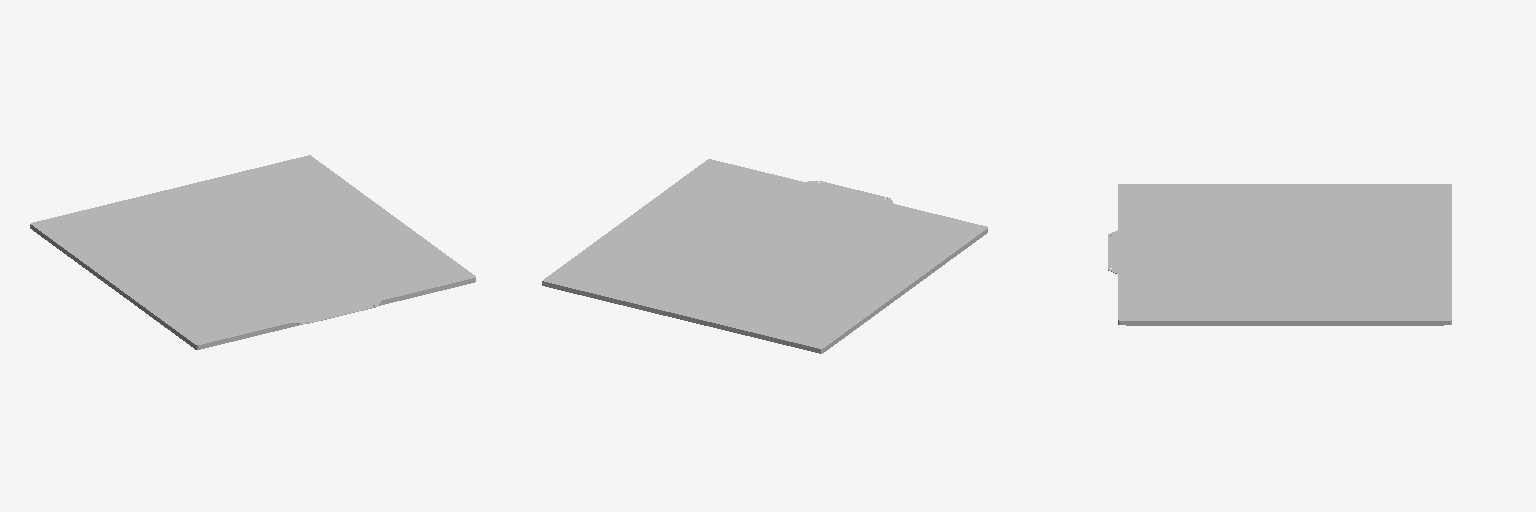
The model's file is bed.obj.
The picture shows the model from 3 angles: view 1: azimuth 30°, elevation 25°; view 2: azimuth 150°, elevation 25°; view 3: azimuth 270°, elevation 25°; orthographic projection.
Bounding box in the file's own units: 310 × 8 × 330.